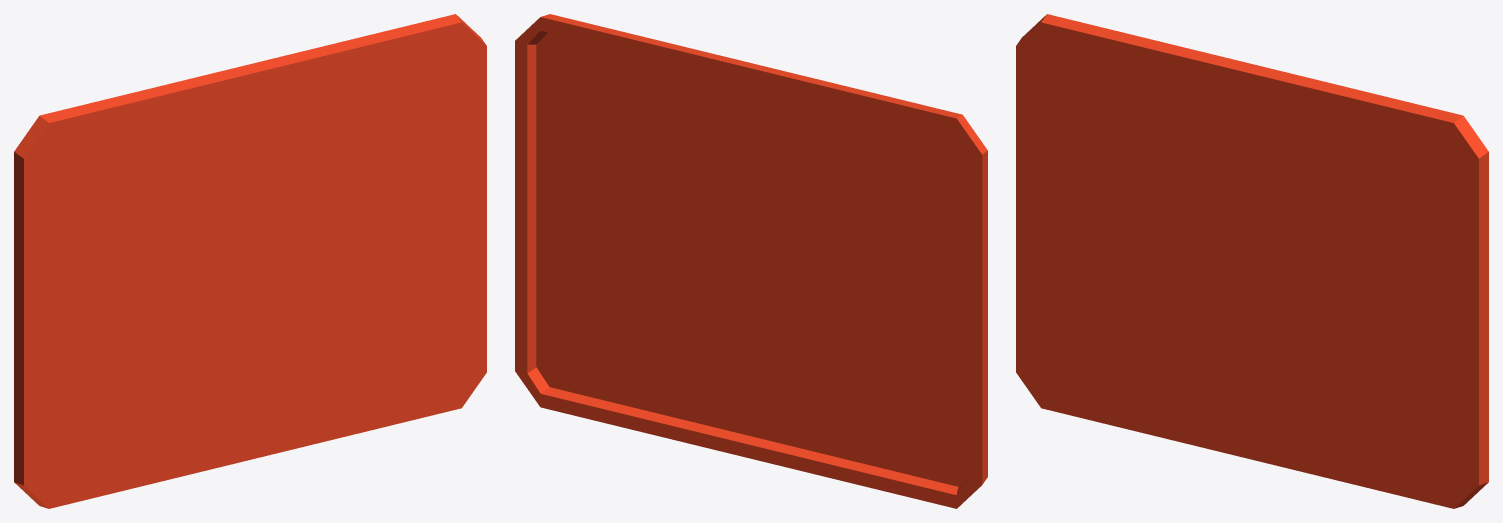
The model's file is SM_Sign_Straight_Turn_A_City.fbx.
The picture shows the model from 3 angles, left to right: view 1: azimuth 30°, elevation 25°; view 2: azimuth 150°, elevation 25°; view 3: azimuth 330°, elevation 25°; orthographic projection.
Parts seen in each view (by area): view 1: SM_Sign_Straight_Turn_A_City; view 2: SM_Sign_Straight_Turn_A_City; view 3: SM_Sign_Straight_Turn_A_City.
Part boxes in pixels (bbox=[...]): SM_Sign_Straight_Turn_A_City: bbox=[14, 14, 486, 508]; SM_Sign_Straight_Turn_A_City: bbox=[515, 14, 987, 508]; SM_Sign_Straight_Turn_A_City: bbox=[1016, 14, 1488, 508].
Size of the model in its own units: 0.7567 by 0.6044 by 0.0219.
